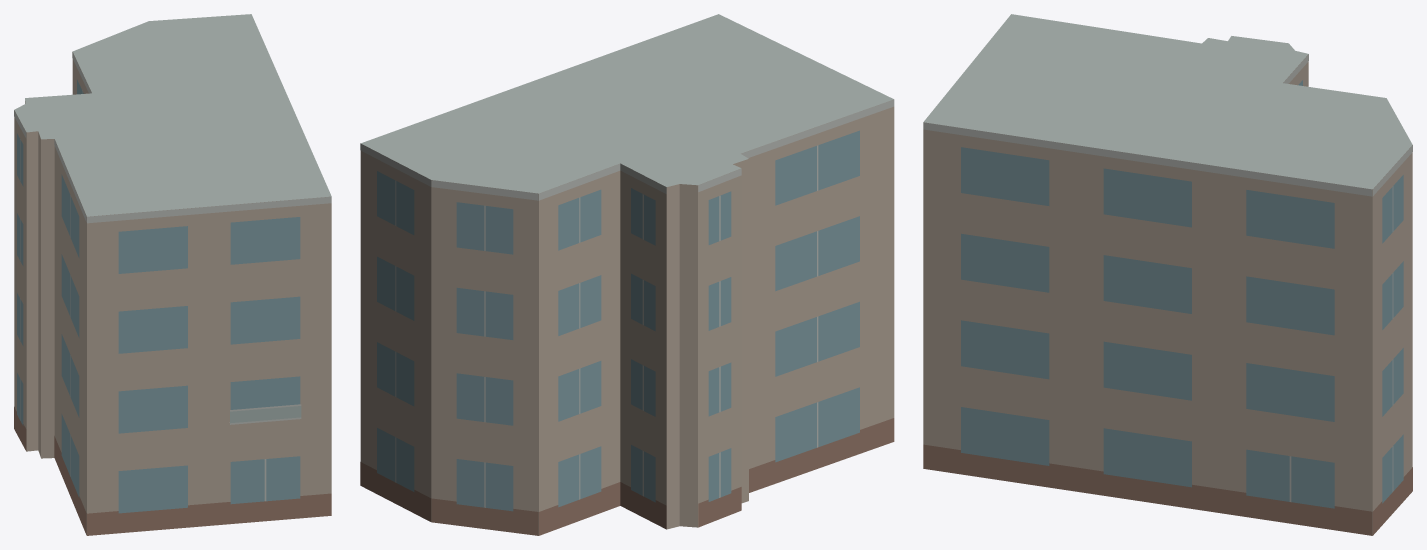
Rendered from survey-upis-32893535.glb.
3 renders of one model, left to right at view 1: azimuth 30°, elevation 25°; view 2: azimuth 150°, elevation 25°; view 3: azimuth 270°, elevation 25°, orthographic. The views are drawn at different scales.
Parts seen in each view (by area): view 1: survey-upis-32893535.tmp; view 2: survey-upis-32893535.tmp; view 3: survey-upis-32893535.tmp.
Boxes of the visible parts, left/top/right/bottom form: survey-upis-32893535.tmp: left=14, top=14, right=331, bottom=535; survey-upis-32893535.tmp: left=360, top=14, right=894, bottom=535; survey-upis-32893535.tmp: left=923, top=14, right=1412, bottom=535.
Bounding box in the file's own units: 12.72 × 11.7 × 14.99.
